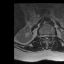CCS_normal: (45, 32, 47, 40)
LFS_normal: (49, 32, 51, 38)
LLS_normal: (47, 33, 49, 38)
RFS_normal: (42, 33, 44, 38)
RLS_normal: (44, 33, 45, 39)
